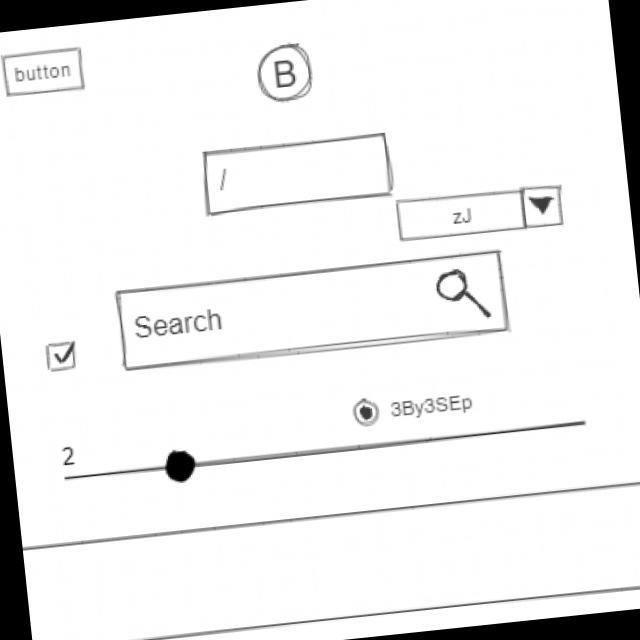button: (1, 44, 89, 100)
checkbox: (44, 337, 81, 374)
container: (22, 477, 640, 640)
icon-button: (254, 40, 317, 107)
input: (198, 130, 399, 219)
radio: (350, 387, 477, 430)
search: (114, 247, 514, 376)
select: (394, 182, 568, 246)
slider: (82, 405, 591, 494)
